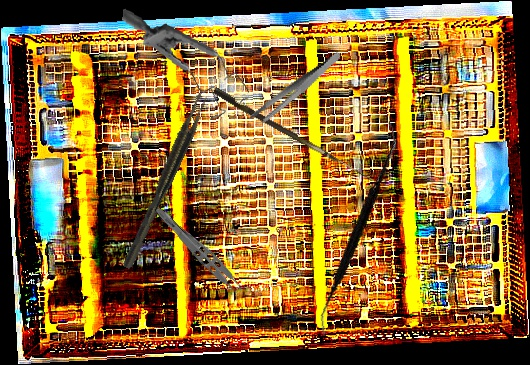Dressing Forceps: (240, 51, 353, 127)
Hook Surgical: (211, 87, 376, 181)
Spatula Surgical: (284, 120, 430, 337)
Speculum: (111, 8, 258, 124)
Tissue Forceps: (116, 90, 213, 270), (147, 204, 250, 303)
